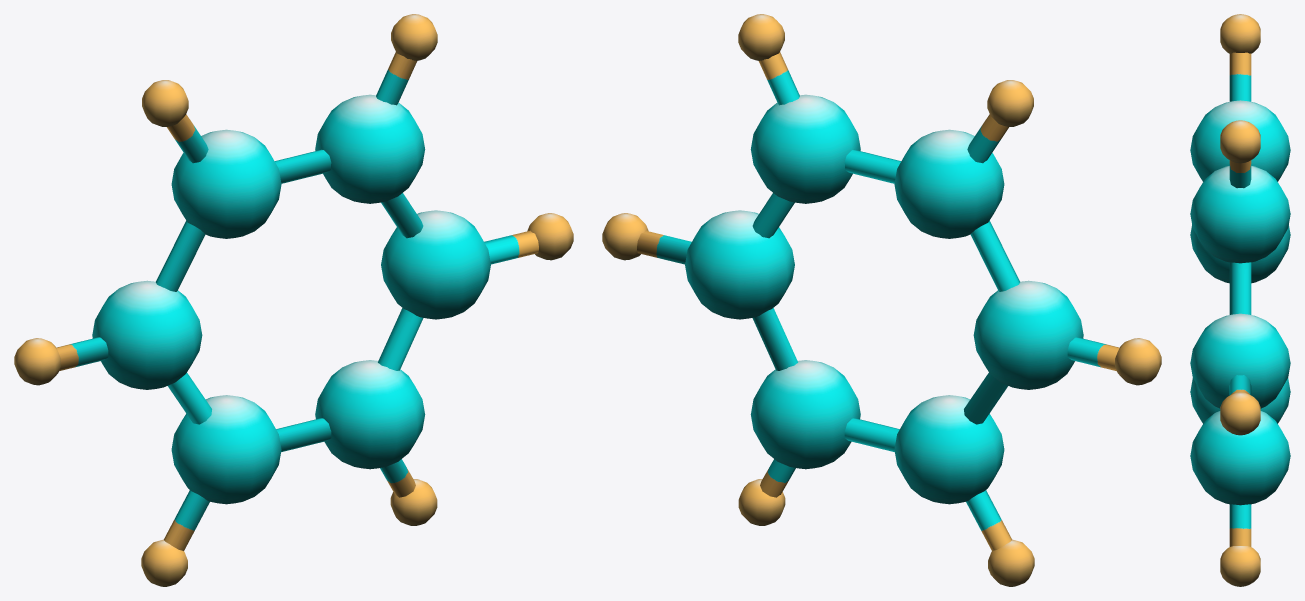
Rendered from Benzene.dae.
The picture shows the model from 3 angles, left to right: view 1: azimuth 30°, elevation 25°; view 2: azimuth 150°, elevation 25°; view 3: azimuth 270°, elevation 25°; orthographic projection. The views are drawn at different scales.
Parts seen in each view (by area): view 1: polySurface77; view 2: polySurface77; view 3: polySurface77.
Part boxes in pixels (x1=…): polySurface77: x1=14, y1=14, x2=573, y2=586; polySurface77: x1=602, y1=14, x2=1161, y2=586; polySurface77: x1=1190, y1=14, x2=1290, y2=586.
Bounding box in the file's own units: 4.11 × 3.6 × 0.7078.
Materials: 1 (1 with a texture image).
